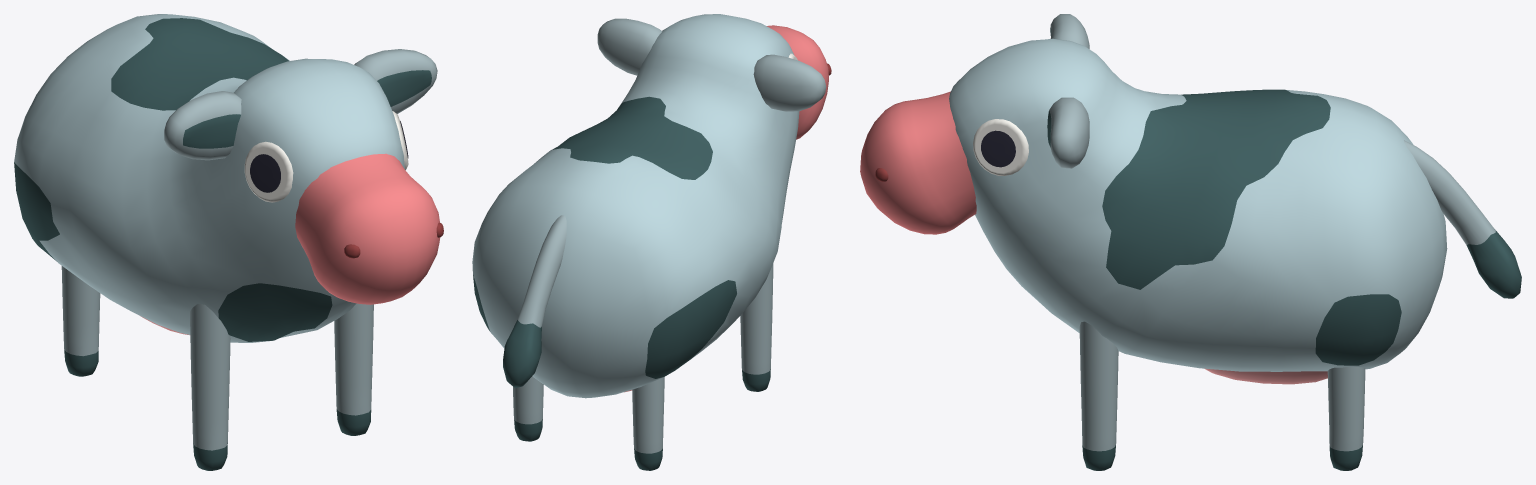
The model's file is cow.glb.
3 views of the same model, side by side, from view 1: azimuth 30°, elevation 25°; view 2: azimuth 150°, elevation 25°; view 3: azimuth 270°, elevation 25° (orthographic). The views are drawn at different scales.
Parts seen in each view (by area): view 1: Mesh; view 2: Mesh; view 3: Mesh.
Boxes of the visible parts, left/top/right/bottom form: Mesh: left=14, top=14, right=443, bottom=470; Mesh: left=472, top=14, right=831, bottom=470; Mesh: left=860, top=14, right=1521, bottom=470.
Bounding box in the file's own units: 1.69 × 2.34 × 3.65.
Materials: 1 (1 with a texture image).
